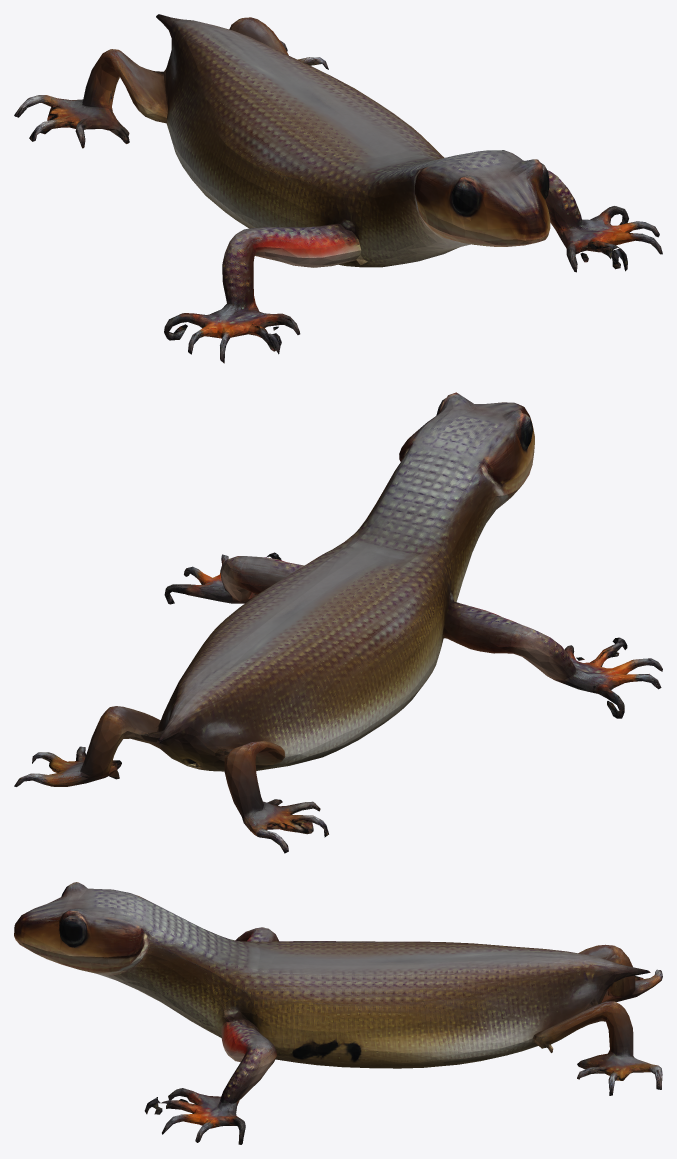
File: ori.glb
3 renders of one model, top to bottom at view 1: azimuth 30°, elevation 25°; view 2: azimuth 150°, elevation 25°; view 3: azimuth 270°, elevation 25°, orthographic. The views are drawn at different scales.
Parts seen in each view (by area): view 1: world; view 2: world; view 3: world.
Part boxes in pixels (<box>): world: <box>14,14,662,363</box>; world: <box>14,392,662,853</box>; world: <box>14,882,662,1144</box>.
Size of the model in its own units: 0.7097 by 0.2678 by 0.9849.
1 material, 1 textured.
